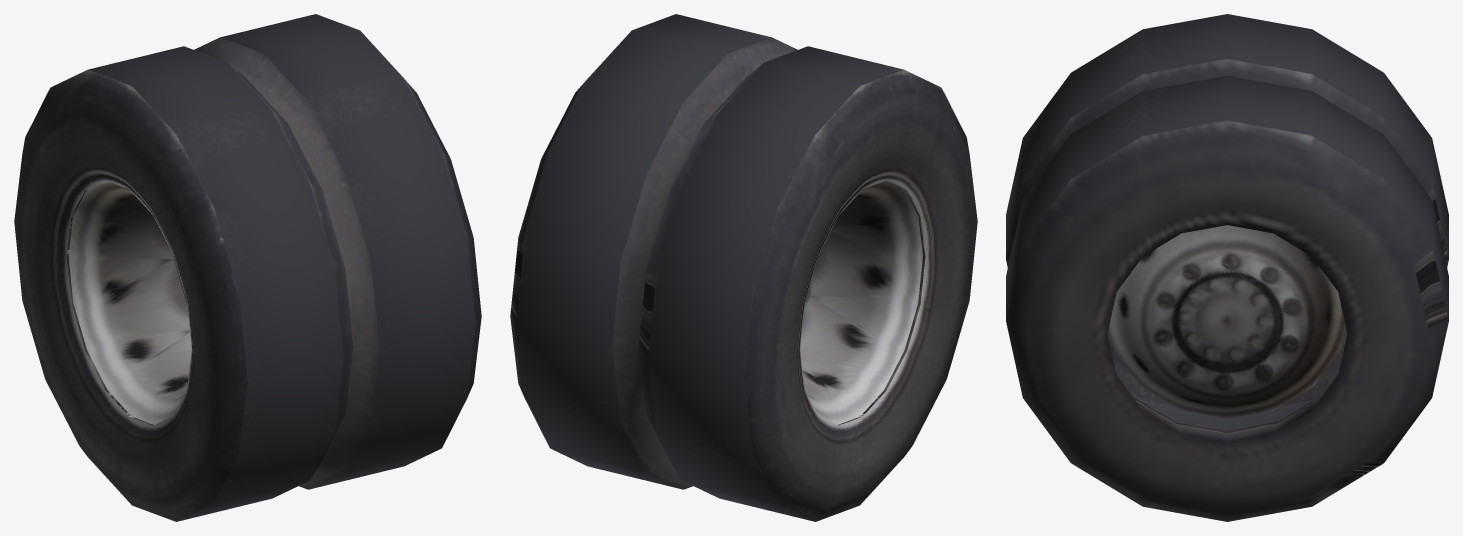
The model's file is Wheel Head BR Fuel Truck.fbx.
The picture shows the model from 3 angles, left to right: view 1: azimuth 30°, elevation 25°; view 2: azimuth 150°, elevation 25°; view 3: azimuth 270°, elevation 25°; orthographic projection. The views are drawn at different scales.
Visible parts, largest first — view 1: Wheel Head BR Fuel Truck; view 2: Wheel Head BR Fuel Truck; view 3: Wheel Head BR Fuel Truck.
Part boxes in pixels (x1=…): Wheel Head BR Fuel Truck: x1=14, y1=14, x2=481, y2=521; Wheel Head BR Fuel Truck: x1=510, y1=14, x2=977, y2=521; Wheel Head BR Fuel Truck: x1=1006, y1=14, x2=1448, y2=521.
Size of the model in its own units: 69.28 by 108 by 108.
